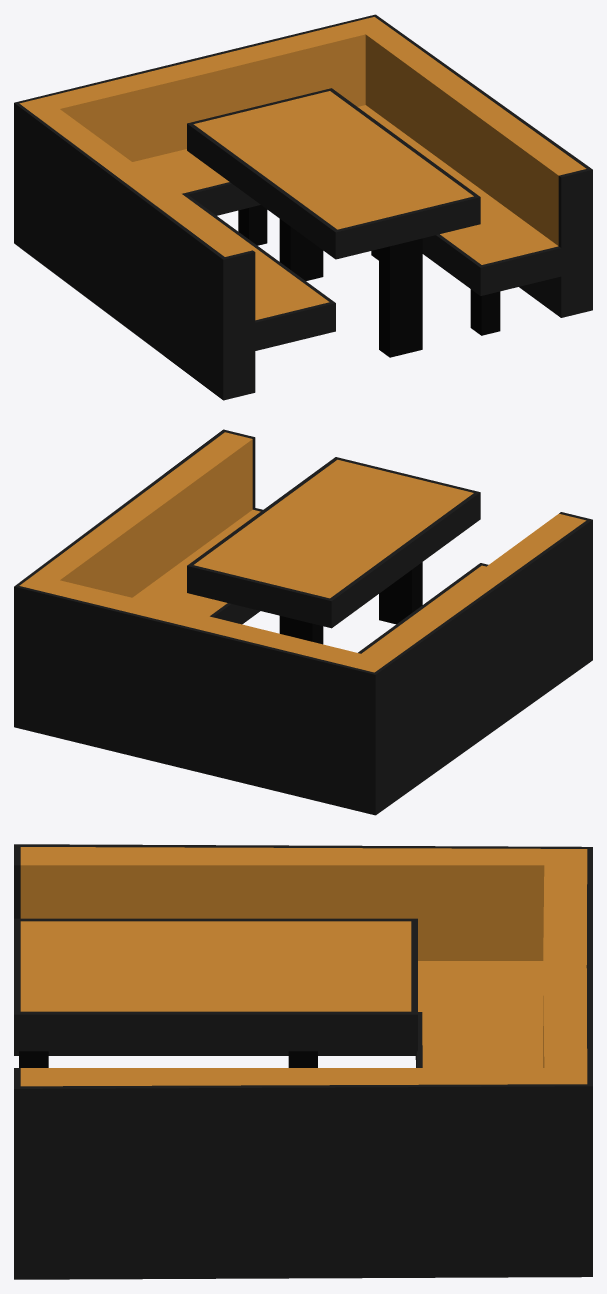
The model's file is SeatingBooth-Canteen_03.fbx.
3 views of the same model, one above another, from view 1: azimuth 30°, elevation 25°; view 2: azimuth 150°, elevation 25°; view 3: azimuth 270°, elevation 25° (orthographic). The views are drawn at different scales.
Parts seen in each view (by area): view 1: SeatingBooth_03; view 2: SeatingBooth_03; view 3: SeatingBooth_03.
Boxes of the visible parts, x1,y1,x2,y2 form: SeatingBooth_03: [14, 14, 592, 400]; SeatingBooth_03: [14, 429, 592, 815]; SeatingBooth_03: [14, 844, 592, 1279].
Size of the model in its own units: 2.75 by 1 by 2.75.
